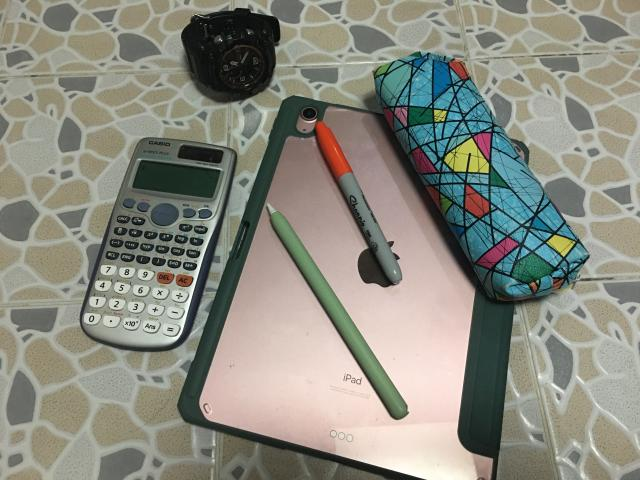Pen: (315, 121, 402, 284)
Watch: (181, 8, 280, 99)
